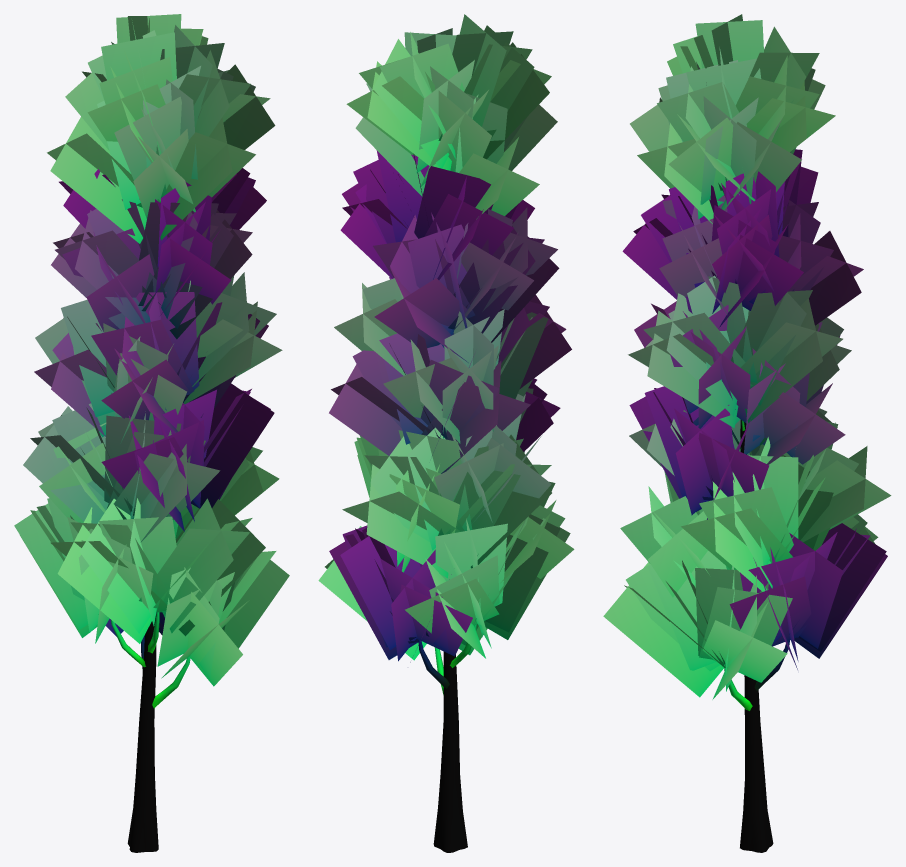
The model's file is Tree_9_3.fbx.
3 views of the same model, side by side, from view 1: azimuth 30°, elevation 25°; view 2: azimuth 150°, elevation 25°; view 3: azimuth 270°, elevation 25° (orthographic).
Visible parts, largest first — view 1: _3; view 2: _3; view 3: _3.
Boxes of the visible parts, x1,y1,x2,y2 form: _3: [14, 14, 289, 852]; _3: [318, 14, 574, 852]; _3: [603, 14, 891, 852].
Bounding box in the file's own units: 690 × 2197 × 699.
